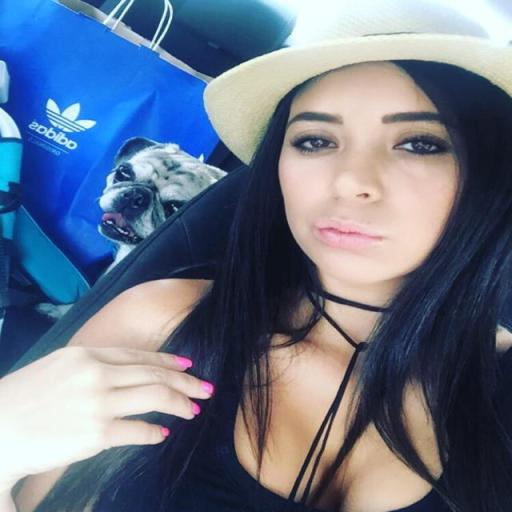Adidas: (24, 96, 98, 154)
